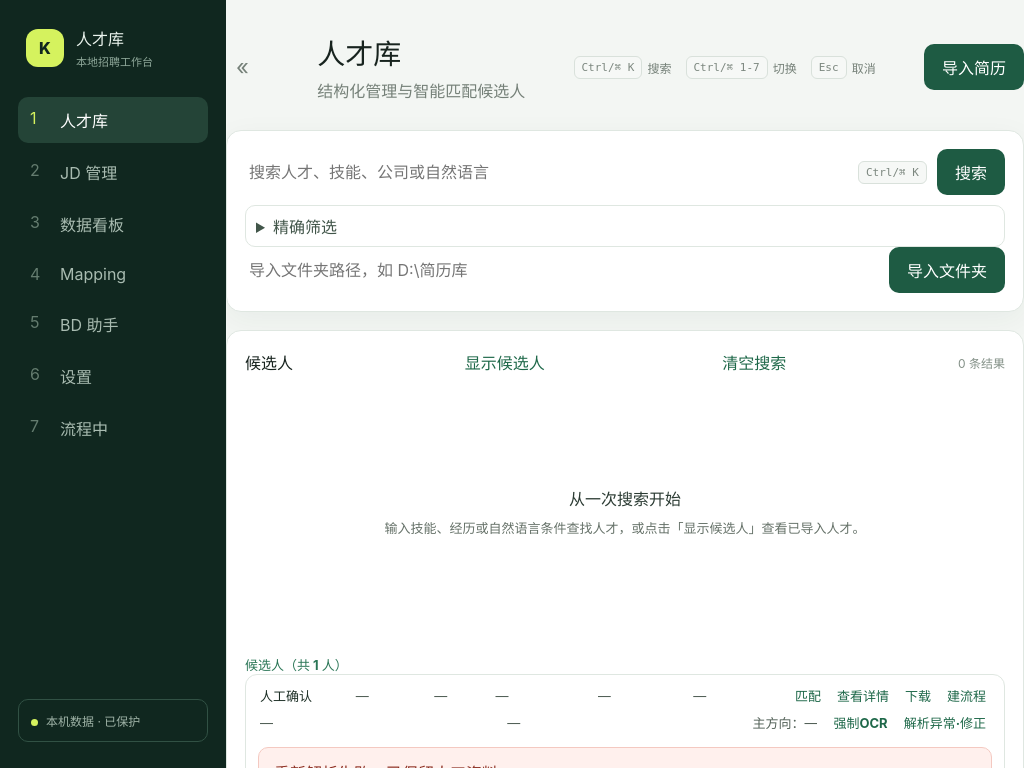
Scenario: recruitment consistency through the App › makes a failed reparse visible even when the accepted resume remains READY
Click the button "解析异常·修正" at (945, 722), box [898,712,992,733]
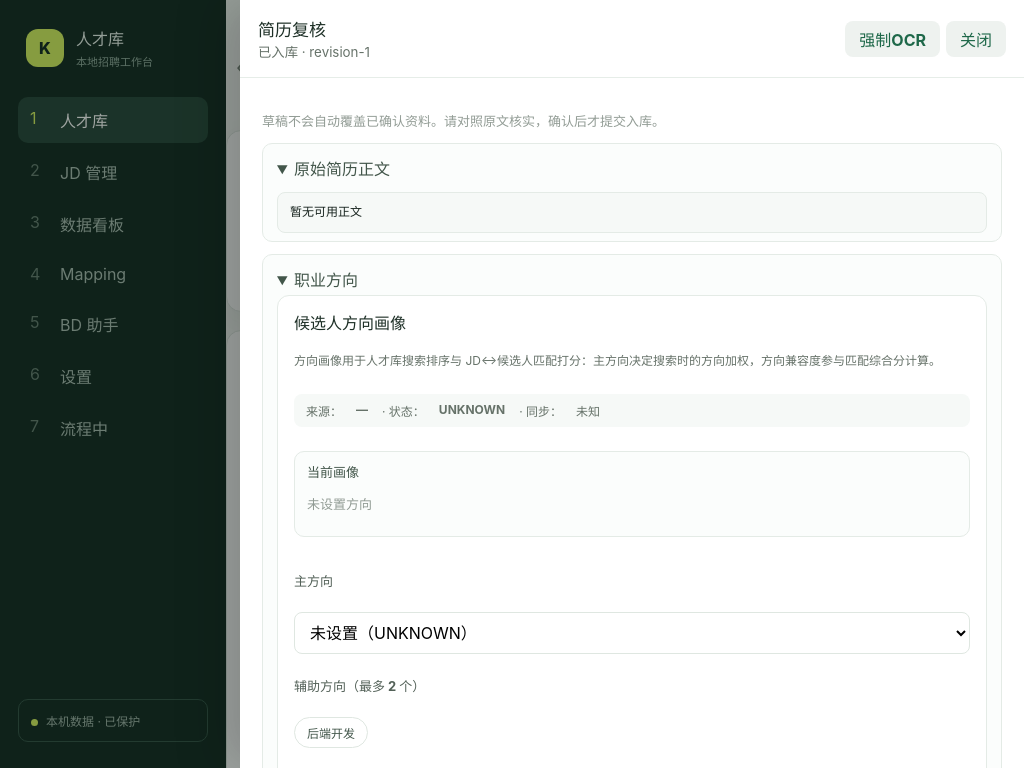
Expected: the dialog "简历复核" is shown
